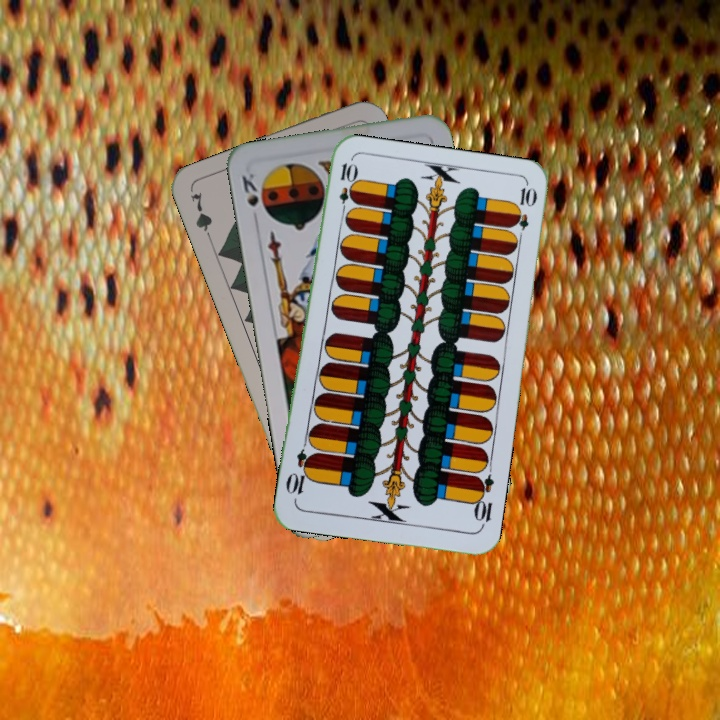E10: (469, 472, 497, 531), (334, 159, 357, 218)
G7: (187, 188, 216, 246)
SK: (238, 169, 269, 219)
